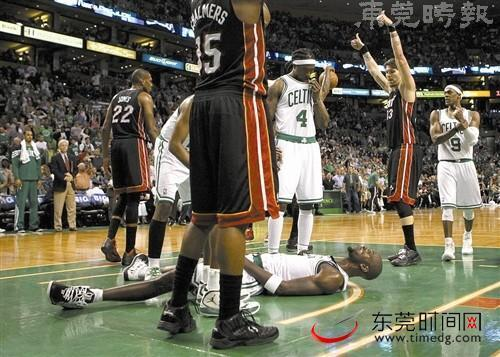Fall-Detected: (32, 231, 397, 318)
